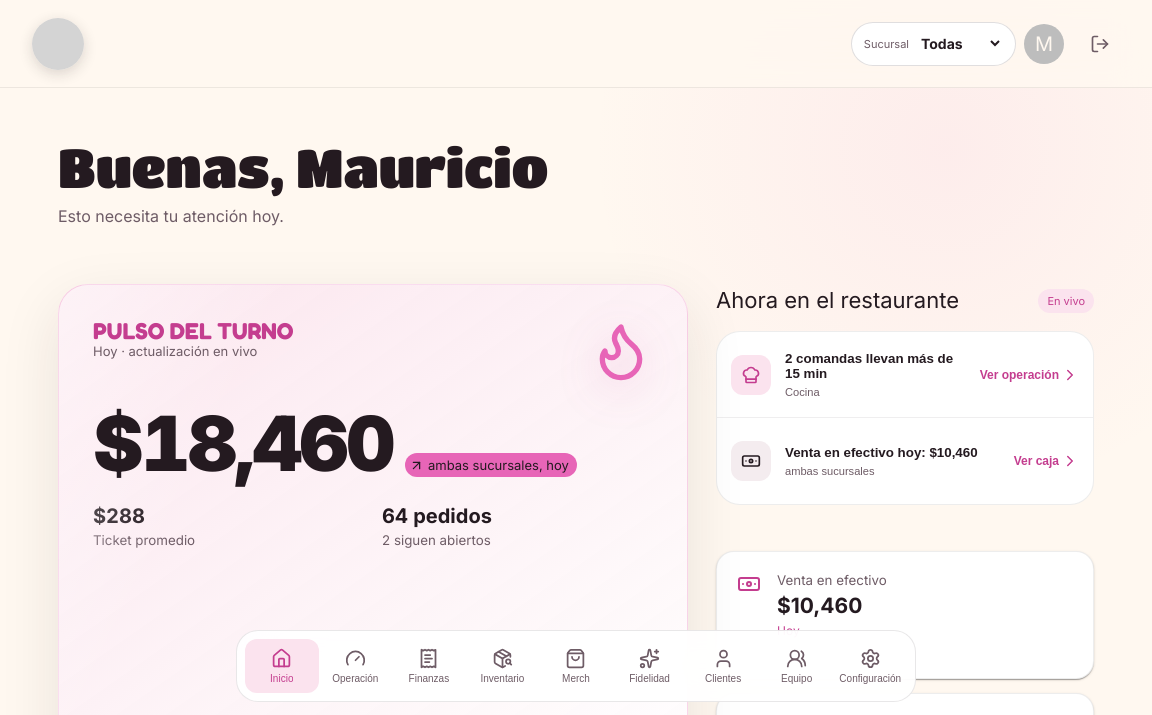
Test case: opens the ingredient inventory from the mobile navigation
Expected: the text "$18,460" is shown, 93,409 -> 393,477
What coordinates should you click on to do the following:
click the button "Inventario"
I would click on:
 (502, 666)
Its box is 466,639 -> 539,693.
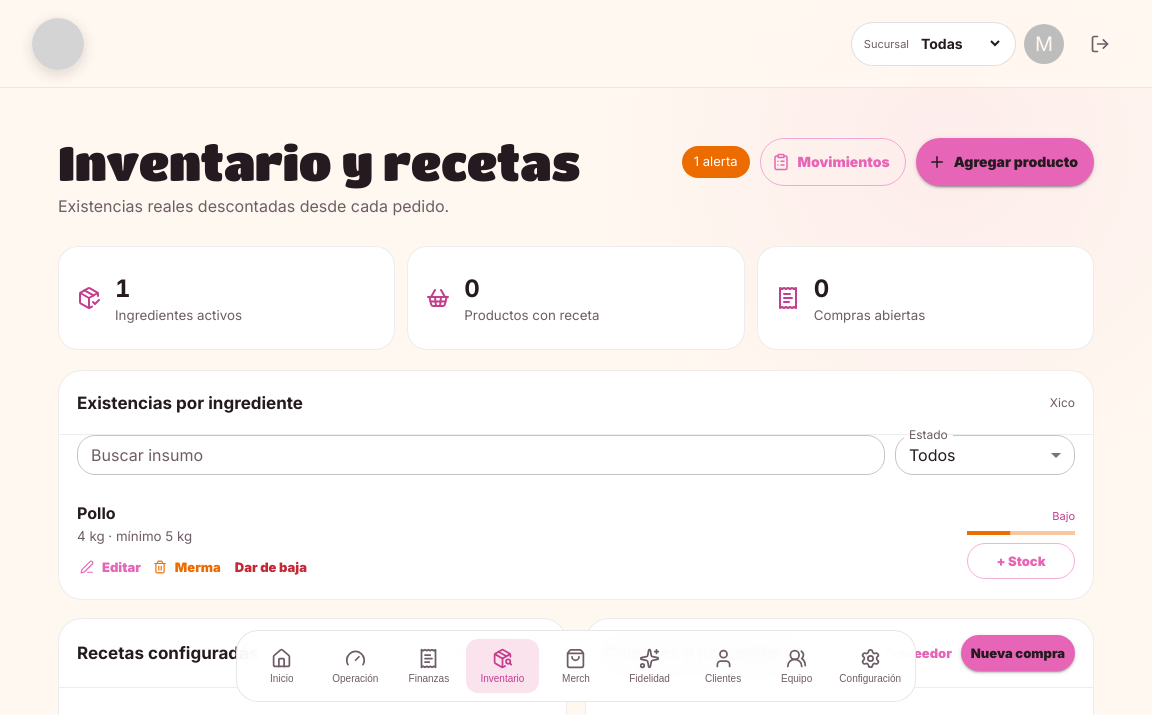
Result: the text "Pollo" is shown at 77,503 -> 116,523
Result: the text "4 kg · mínimo 5 kg" is shown at 77,528 -> 192,544
